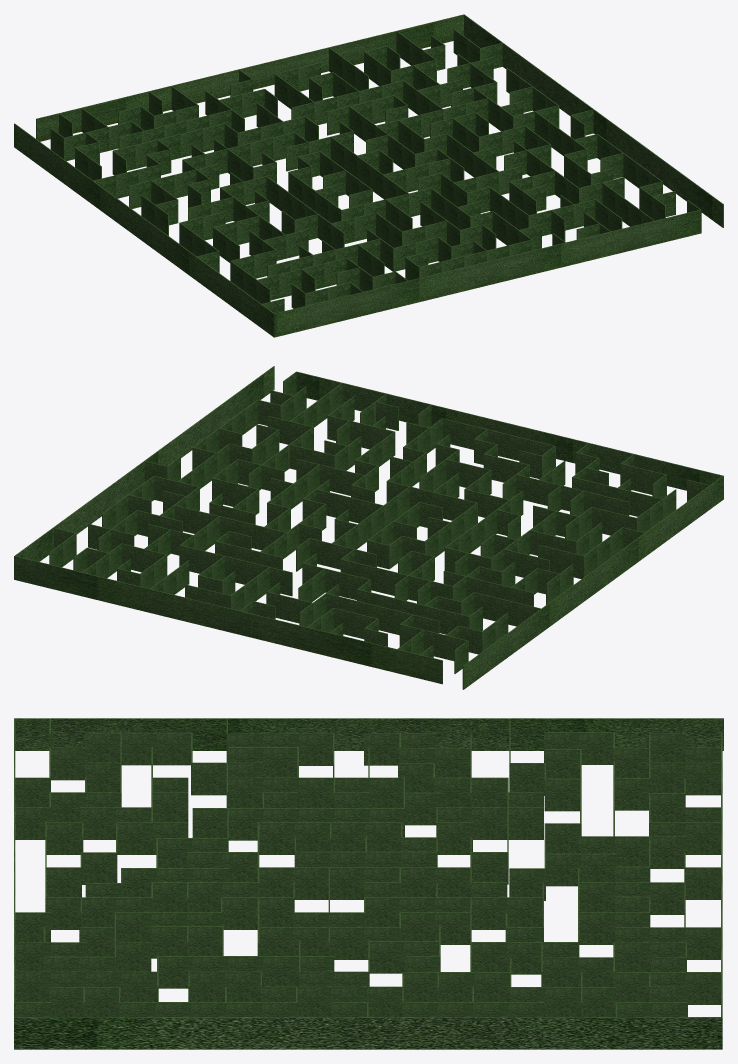
File: Laberinto.obj
3 views of the same model, one above another, from view 1: azimuth 30°, elevation 25°; view 2: azimuth 150°, elevation 25°; view 3: azimuth 270°, elevation 25° (orthographic). The views are drawn at different scales.
Visible parts, largest first — view 1: PEA_Cube.002, PEB_Cube.014, PED_Cube.013, PEI_Cube; view 2: PEB_Cube.014, PED_Cube.013, PEA_Cube.002, PEI_Cube, PC290_Cube.293, PC276_Cube.279, PC64_Cube.067; view 3: PEI_Cube, PED_Cube.013, PC124_Cube.127, PC152_Cube.155, PC315_Cube.319, PC163_Cube.166, PC319_Cube.323, PC115_Cube.118, PC117_Cube.120, PC228_Cube.231, PC253_Cube.256, PC288_Cube.291 (+184 smaller).
Part boxes in pixels (<box>): PEA_Cube.002: <box>273,209,701,337</box>; PEB_Cube.014: <box>36,14,463,141</box>; PED_Cube.013: <box>14,123,274,336</box>; PEI_Cube: <box>463,14,723,227</box>; PEB_Cube.014: <box>15,556,442,684</box>; PED_Cube.013: <box>462,476,723,689</box>; PEA_Cube.002: <box>296,371,723,499</box>; PEI_Cube: <box>14,366,274,579</box>; PC290_Cube.293: <box>516,474,538,503</box>; PC276_Cube.279: <box>443,418,465,447</box>; PC64_Cube.067: <box>212,478,235,506</box>; PEI_Cube: <box>14,1017,722,1049</box>; PED_Cube.013: <box>15,718,723,750</box>; PC124_Cube.127: <box>685,762,720,795</box>; PC152_Cube.155: <box>544,778,579,811</box>; PC315_Cube.319: <box>121,732,156,765</box>; PC163_Cube.166: <box>546,853,581,886</box>; PC319_Cube.323: <box>192,762,227,795</box>; PC115_Cube.118: <box>685,867,720,899</box>; PC117_Cube.120: <box>685,822,720,854</box>; PC228_Cube.231: <box>508,807,543,839</box>; PC253_Cube.256: <box>259,822,294,854</box>; PC288_Cube.291: <box>117,822,152,854</box>.
Size of the model in its own units: 200 by 10 by 200.
Materials: 1 (1 with a texture image).
